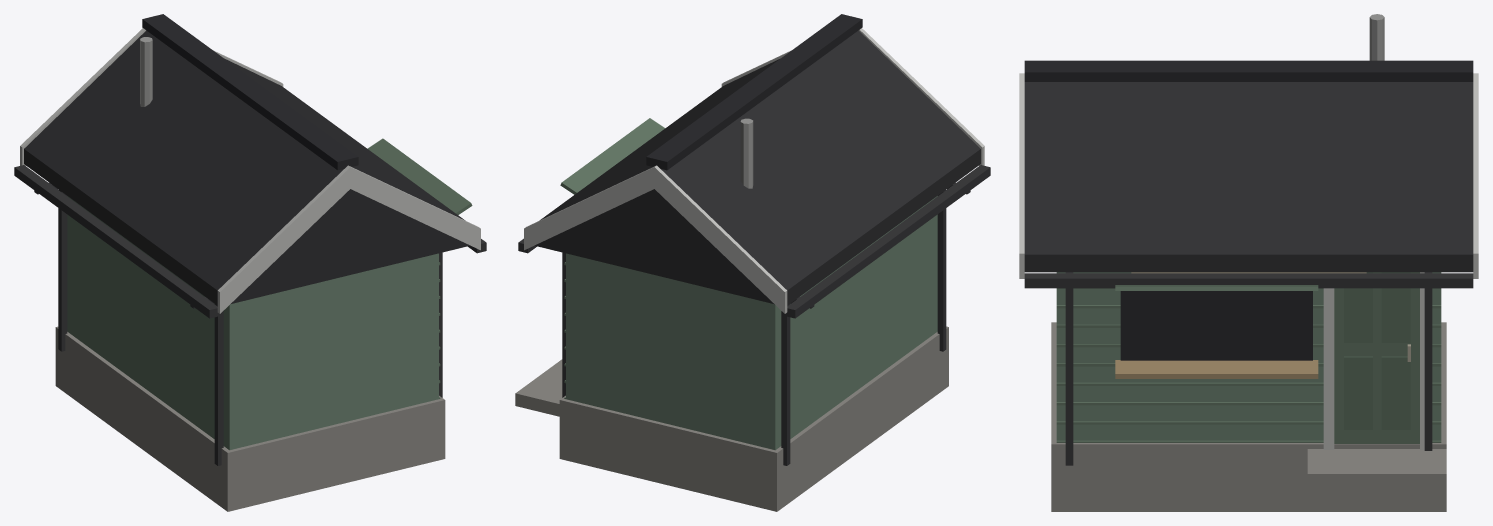
The model's file is SM_Prop_cafe_building_0.glb.
The picture shows the model from 3 angles, left to right: view 1: azimuth 30°, elevation 25°; view 2: azimuth 150°, elevation 25°; view 3: azimuth 270°, elevation 25°; orthographic projection. The views are drawn at different scales.
Visible parts, largest first — view 1: SM_Prop_cafe_building_0; view 2: SM_Prop_cafe_building_0; view 3: SM_Prop_cafe_building_0.
Boxes of the visible parts, x1=… form: SM_Prop_cafe_building_0: x1=14, y1=14, x2=486, y2=511; SM_Prop_cafe_building_0: x1=515, y1=14, x2=990, y2=511; SM_Prop_cafe_building_0: x1=1019, y1=14, x2=1478, y2=511.
Size of the model in its own units: 3.76 by 4.2 by 4.3.
